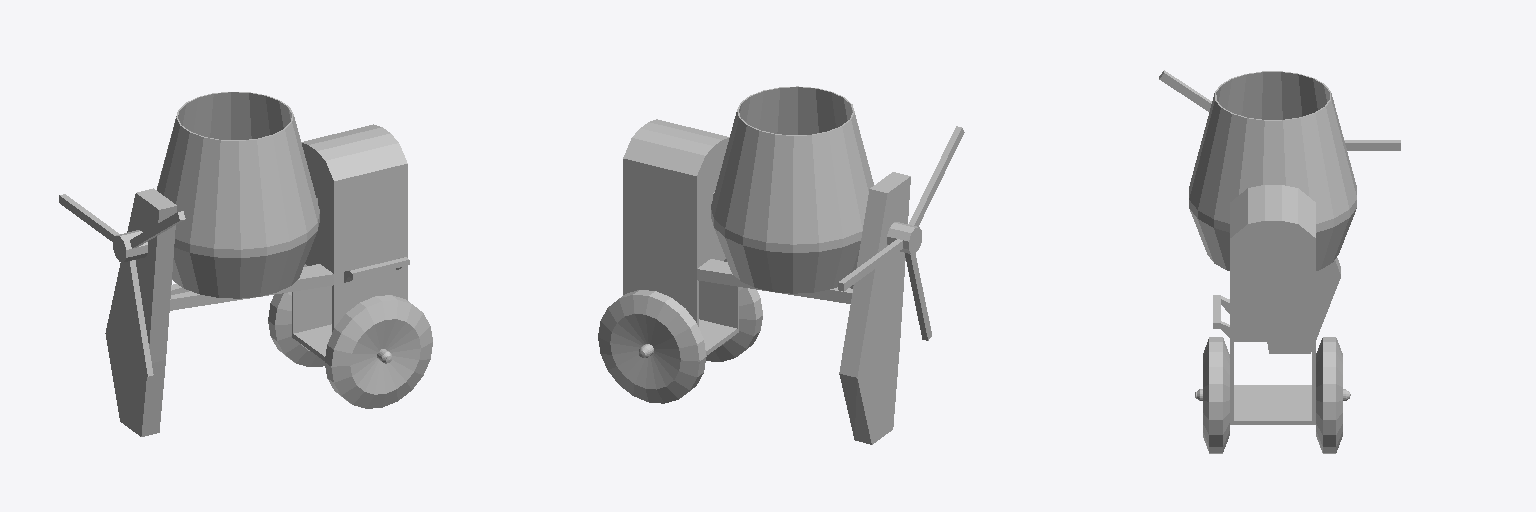
The model's file is Mixer.obj.
The picture shows the model from 3 angles: view 1: azimuth 30°, elevation 25°; view 2: azimuth 150°, elevation 25°; view 3: azimuth 270°, elevation 25°; orthographic projection.
Parts seen in each view (by area): view 1: Mixer, RightStand, LeftStand, TireFront, TireBack; view 2: Mixer, RightStand, LeftStand, TireBack, TireFront; view 3: Mixer, RightStand, TireFront, TireBack, LeftStand.
Part boxes in pixels (bbox=[...]): Mixer: bbox=[59, 92, 319, 376]; RightStand: bbox=[170, 124, 409, 360]; LeftStand: bbox=[105, 188, 176, 436]; TireFront: bbox=[325, 295, 432, 408]; TireBack: bbox=[268, 292, 324, 366]; Mixer: bbox=[711, 86, 964, 340]; RightStand: bbox=[623, 119, 853, 355]; LeftStand: bbox=[839, 172, 910, 444]; TireBack: bbox=[598, 290, 706, 403]; TireFront: bbox=[706, 287, 762, 361]; Mixer: bbox=[1159, 70, 1400, 270]; RightStand: bbox=[1213, 185, 1315, 424]; TireFront: bbox=[1195, 337, 1229, 453]; TireBack: bbox=[1316, 337, 1350, 453]; LeftStand: bbox=[1267, 258, 1340, 353].
Bounding box in the file's own units: 3.85 × 3.84 × 2.84.